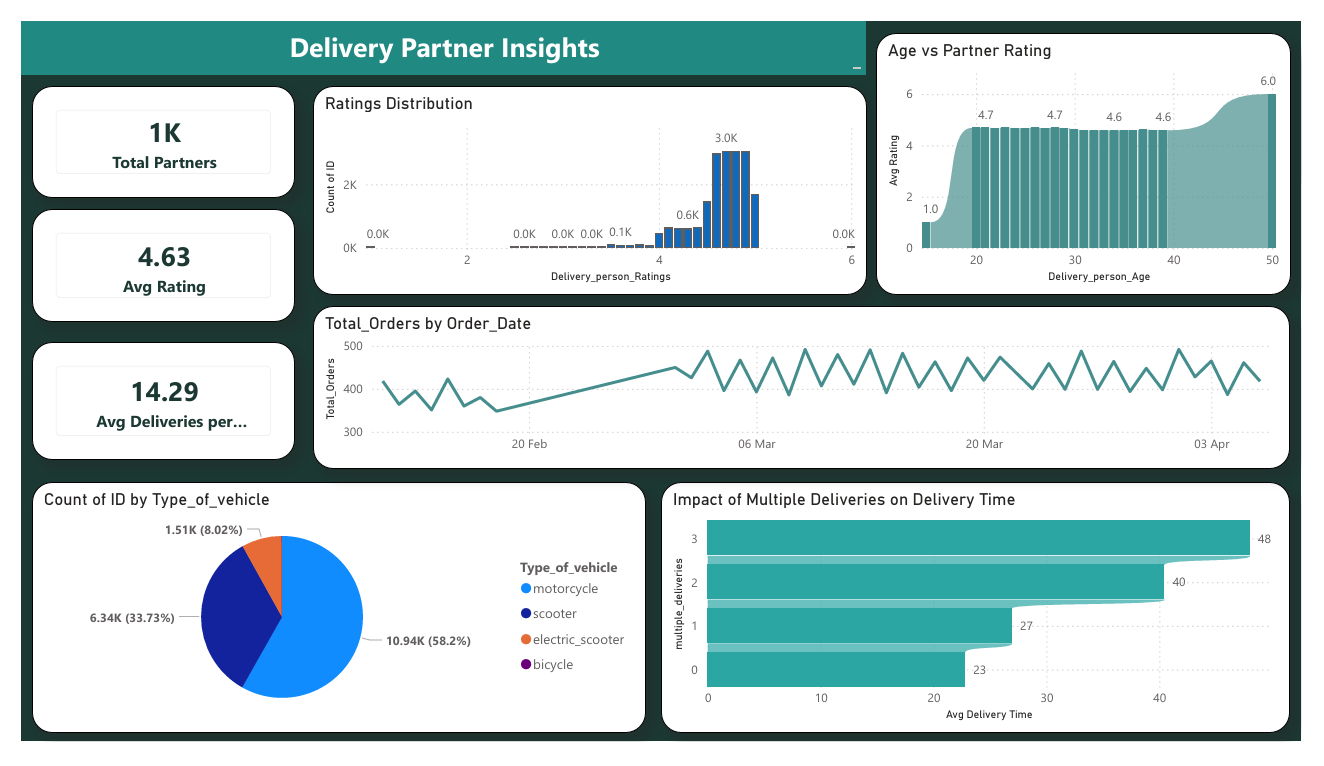

The page's visual inventory and layout, read from the dashboard file:
{"tool":"powerbi","page":{"name":"Delivery partner insights","canvas":[1280,720],"ordinal":1},"visuals":[{"type":"cardVisual","fields":{"Data":["orders.Total Partners"]},"box":[9.7,63.9,263,112.2],"z":0},{"type":"cardVisual","fields":{"Data":["orders.Avg Deliveries per Partner"]},"box":[9.7,319.7,263,118.2],"z":1000},{"type":"cardVisual","fields":{"Data":["orders.Avg Rating"]},"box":[9.7,187,263,113.4],"z":2000},{"type":"clusteredColumnChart","title":"Ratings Distribution","fields":{"Category":["orders.Delivery_person_Ratings"],"Y":["CountNonNull(orders.ID)"]},"box":[290.8,63.9,553.8,208.7],"z":3000},{"type":"columnChart","title":"Age vs Partner Rating","fields":{"Category":["orders.Delivery_person_Age"],"Y":["orders.Avg Rating"]},"box":[853.5,11,415.8,262.1],"z":4000},{"type":"pieChart","fields":{"Category":["orders.Type_of_vehicle"],"Y":["CountNonNull(orders.ID)"]},"box":[9.6,459.7,614.8,251.1],"z":5000},{"type":"barChart","title":"Impact of Multiple Deliveries on Delivery Time","fields":{"Category":["orders.multiple_deliveries"],"Y":["orders.Avg Delivery Time"]},"box":[639.5,459.7,628.5,251.1],"z":6000},{"type":"lineChart","fields":{"Category":["orders.Order_Date"],"Y":["orders.Total_Orders"]},"box":[290.9,284,977,163.3],"z":7000},{"type":"textbox","title":"Delivery Partner Insights","box":[0,0,844.5,54.3],"z":8000}]}

Visuals, with their boxes in screenshot pixels (x1, y1, x2, y2), scaled from the page's 1280x720 canvas onto the 1324x766 screenshot:
cardVisual - orders.Total Partners: (10,68,282,187)
cardVisual - orders.Avg Deliveries per Partner: (10,340,282,466)
cardVisual - orders.Avg Rating: (10,199,282,320)
"Ratings Distribution" clusteredColumnChart: (301,68,874,290)
"Age vs Partner Rating" columnChart: (883,12,1313,291)
pieChart - orders.Type_of_vehicle x CountNonNull(orders.ID): (10,489,646,756)
"Impact of Multiple Deliveries on Delivery Time" barChart: (661,489,1312,756)
lineChart - orders.Order_Date x orders.Total_Orders: (301,302,1311,476)
"Delivery Partner Insights" textbox: (0,0,874,58)
